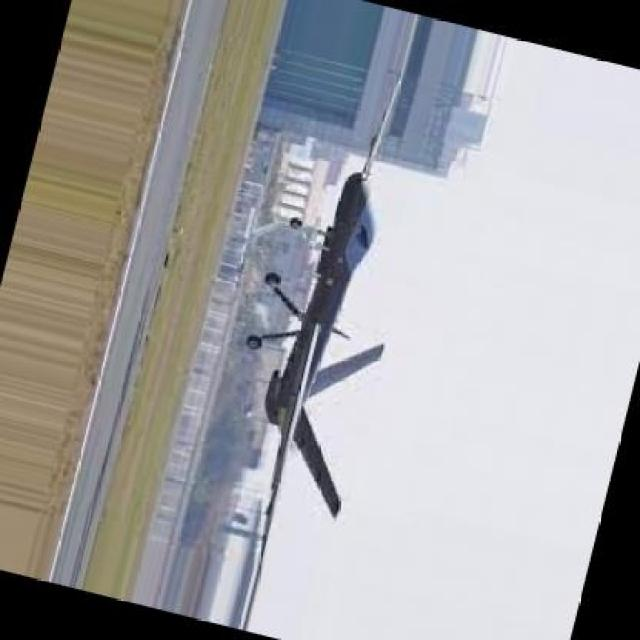iha: (239, 163, 393, 534)
